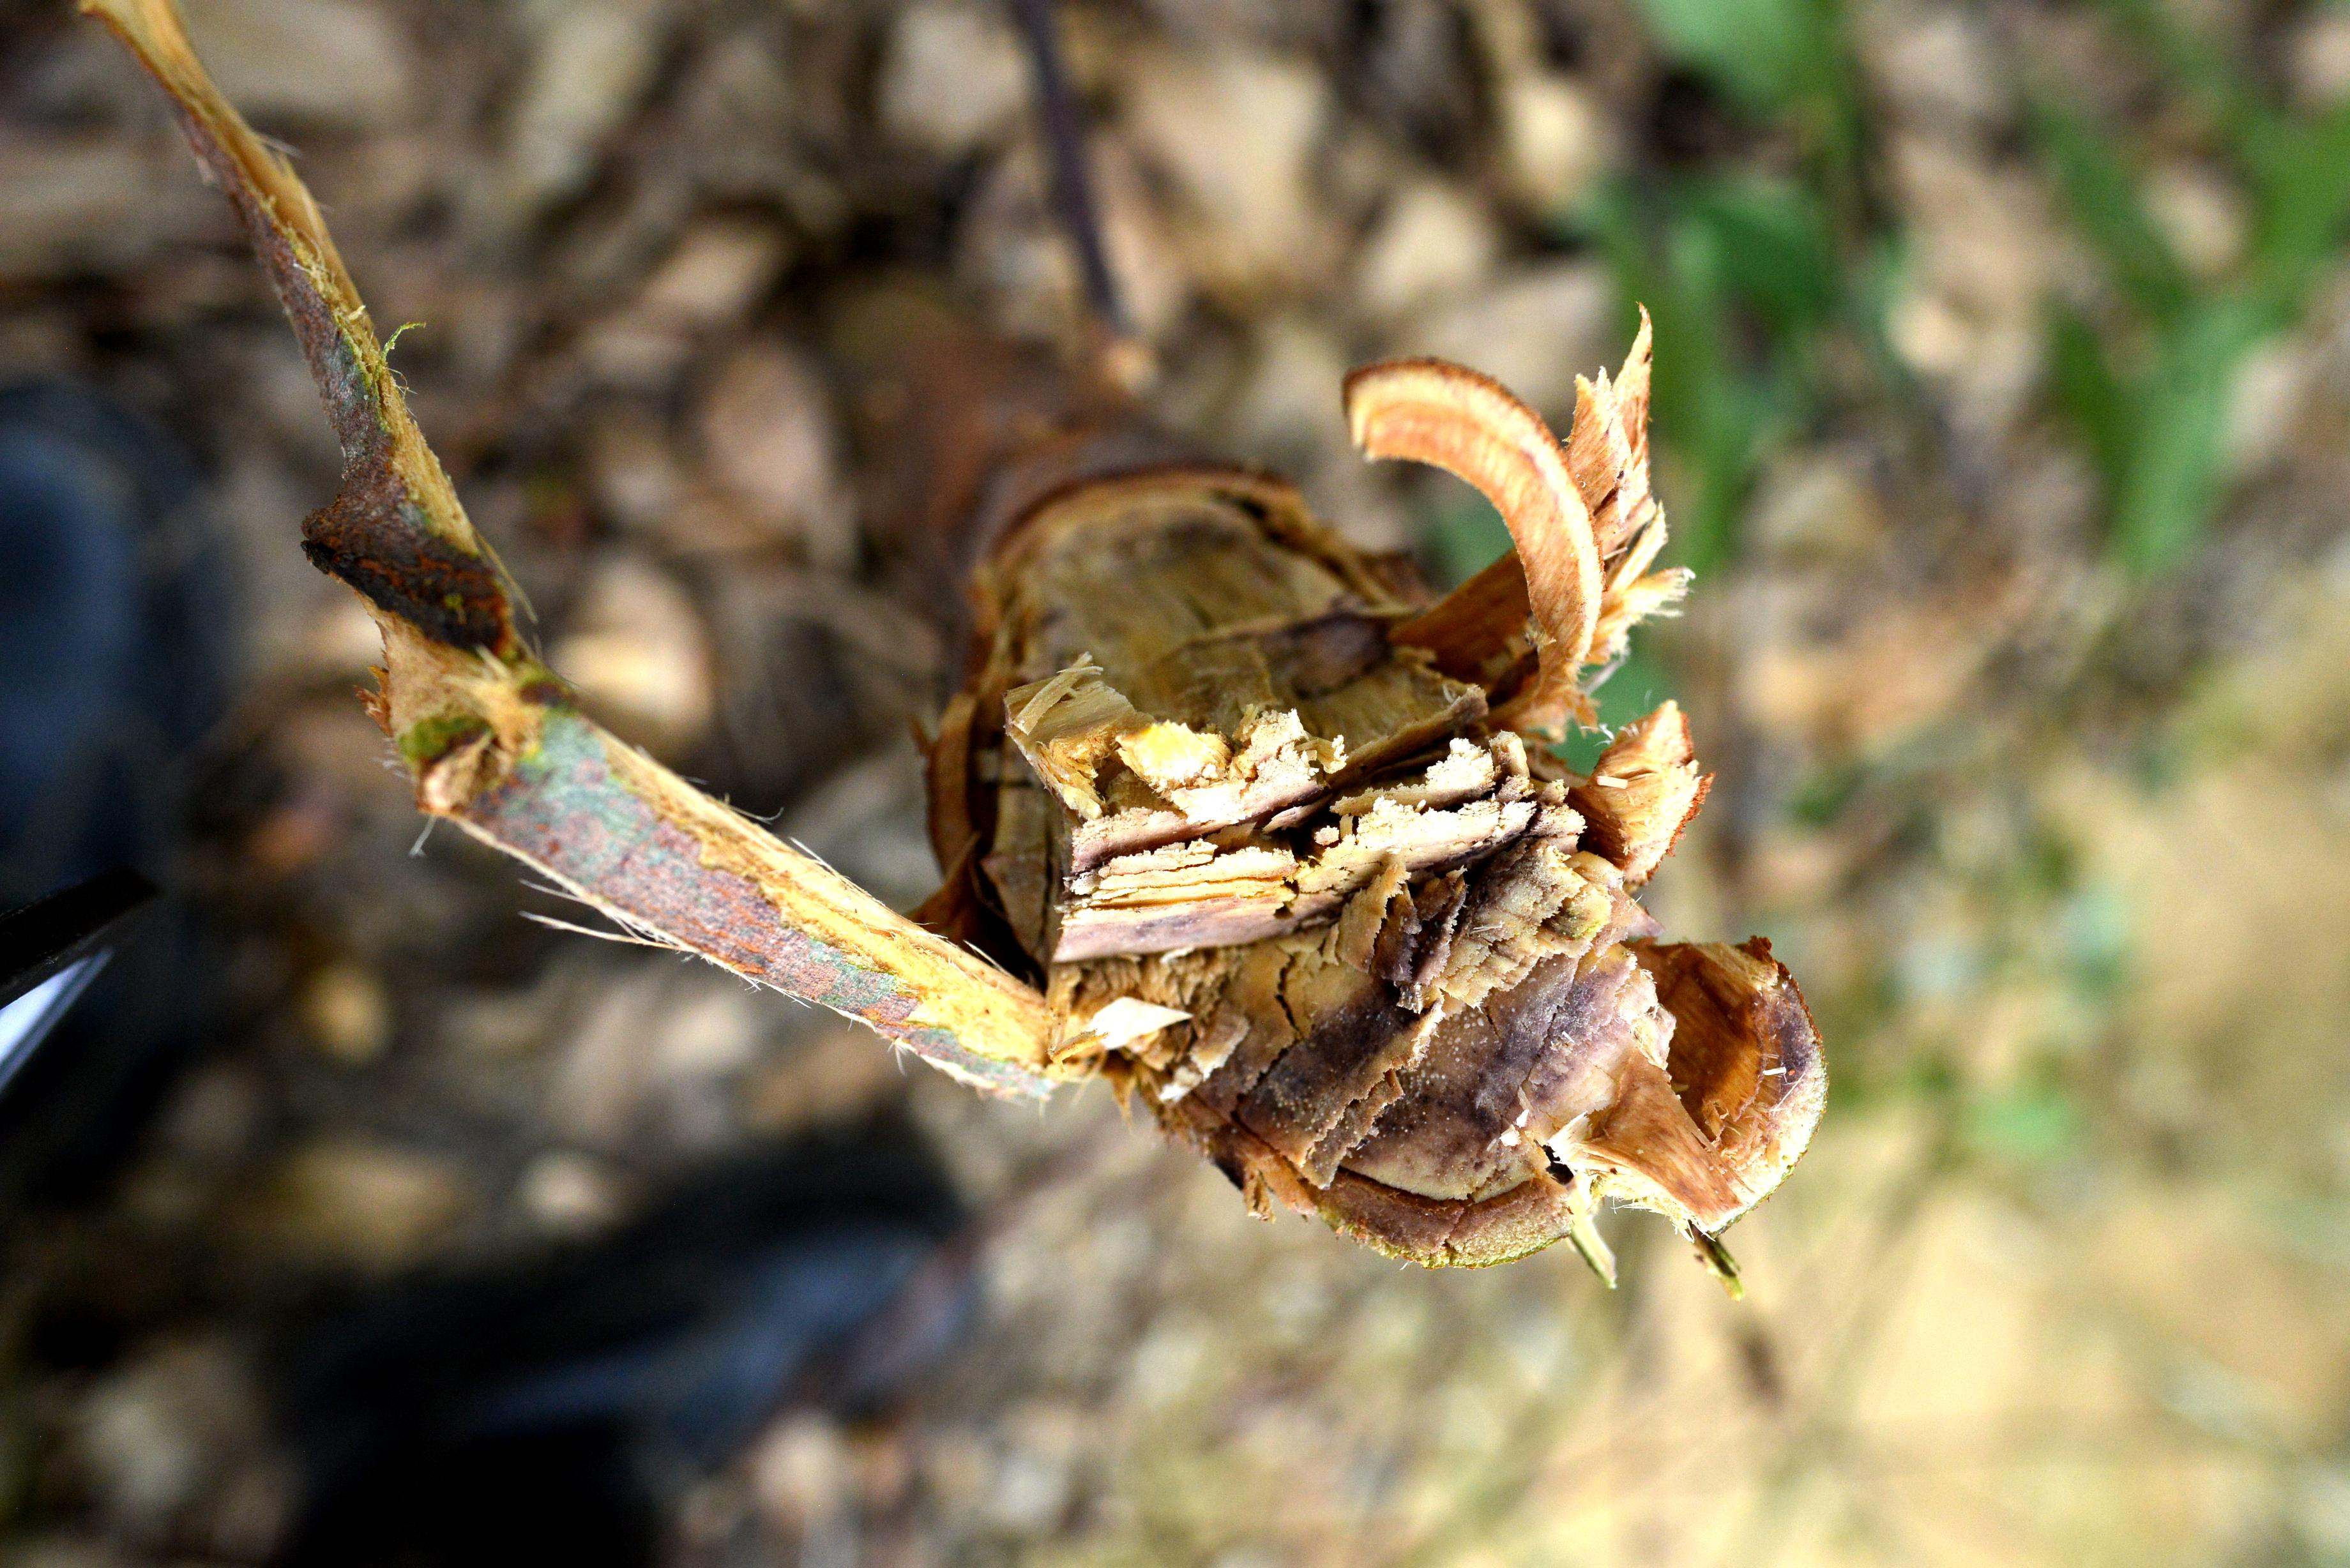Ralstonia: (1227, 957, 1500, 1190)
